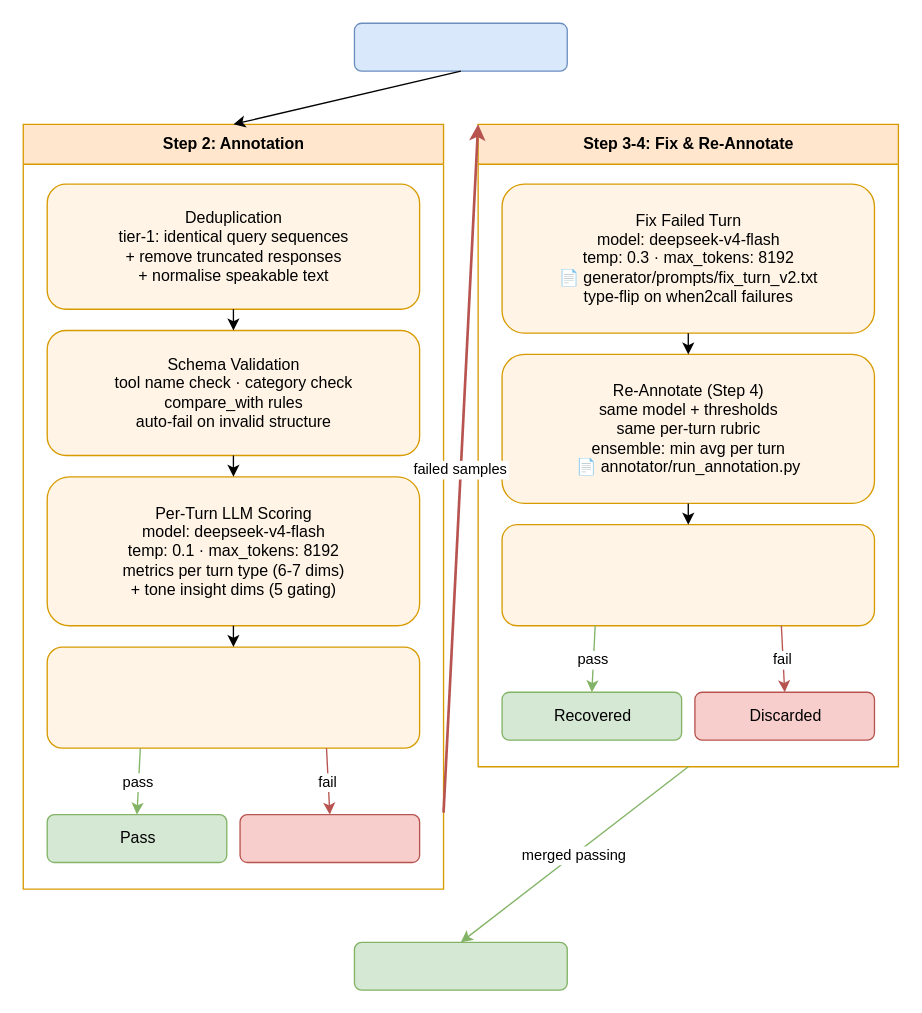
The diagram is 922 pixels wide and 1013 high, and some of its shapes have lost their labels. Here are the shapes that lost their labels. From the top down, the centre of each, then its label:
[460,46]: raw/multi_turn.json
[687,574]: Merge pass(step2) + pass(step4) → final/multi_turn.json
[233,697]: Threshold Filter avg ≥ 8 AND no dim ≤ 5 insight: mean ≥ 5, no dim ≤ 2
[329,838]: Fail → Fix
[460,965]: final/multi_turn.json
